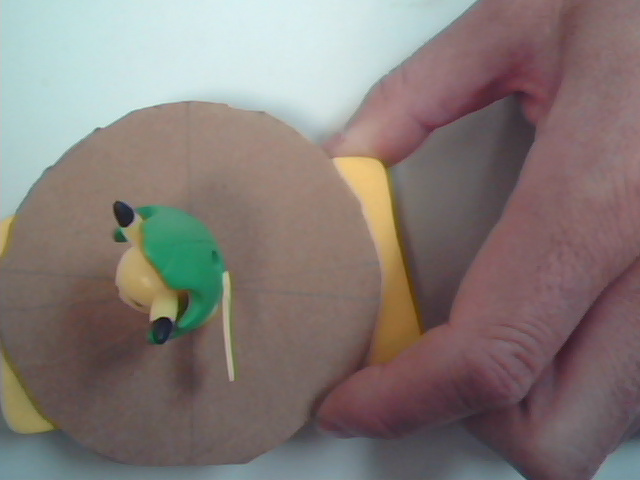pikachu: (100, 148, 353, 401)
